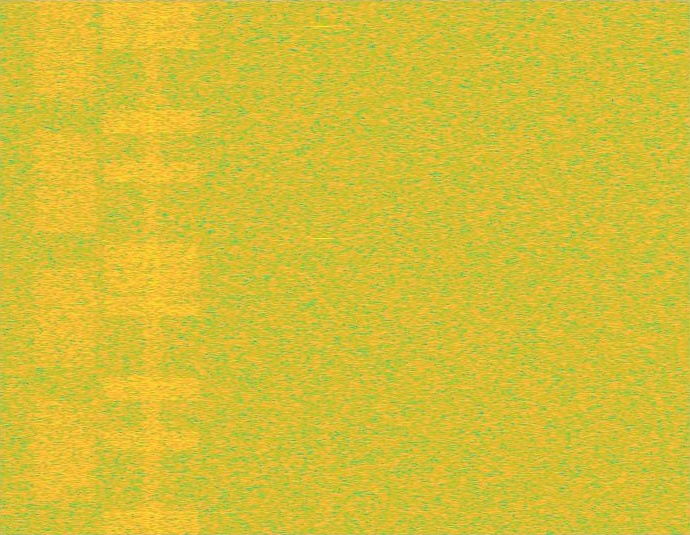5G: (31, 0, 100, 534)
DSSS: (140, 0, 163, 534)
LTE: (100, 0, 203, 534)
Radar: (315, 0, 329, 534)
